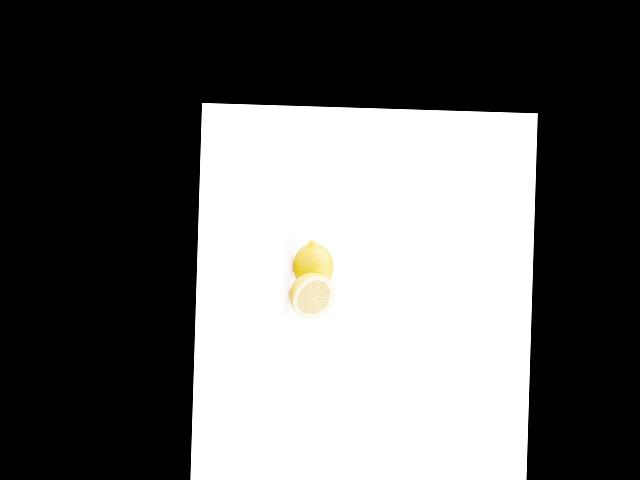lemon: (287, 237, 336, 287)
